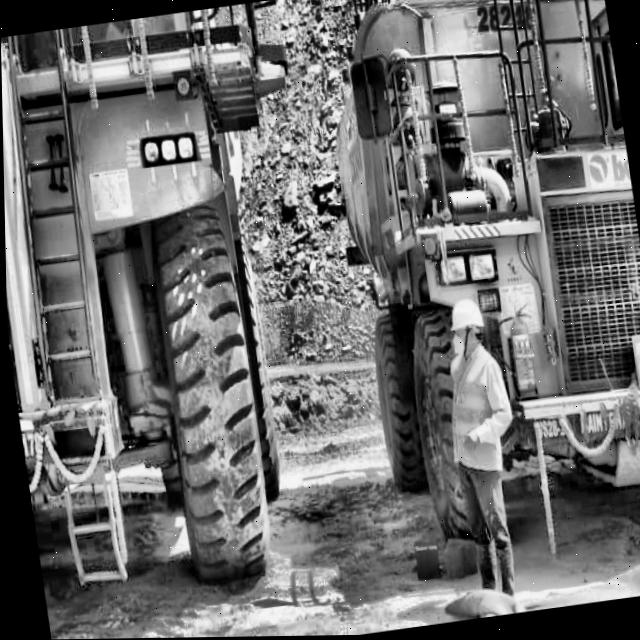dump_truck: (0, 0, 380, 603), (305, 0, 640, 545)
